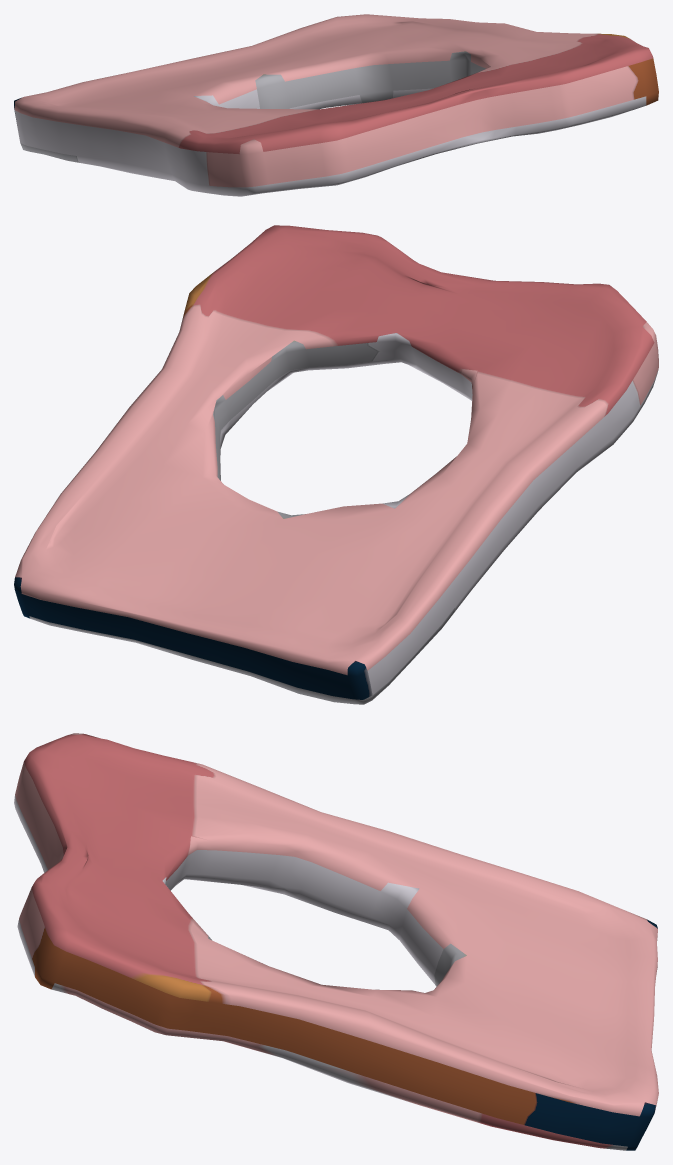
Rendered from Hat_Toast.fbx.
3 renders of one model, top to bottom at view 1: azimuth 30°, elevation 25°; view 2: azimuth 150°, elevation 25°; view 3: azimuth 270°, elevation 25°, orthographic. The views are drawn at different scales.
Parts seen in each view (by area): view 1: Hat_Toast; view 2: Hat_Toast; view 3: Hat_Toast.
Part boxes in pixels (<box>): Hat_Toast: <box>14,14,658,196</box>; Hat_Toast: <box>14,225,658,704</box>; Hat_Toast: <box>14,733,658,1150</box>.
Bounding box in the file's own units: 68.31 × 32.85 × 80.18.
